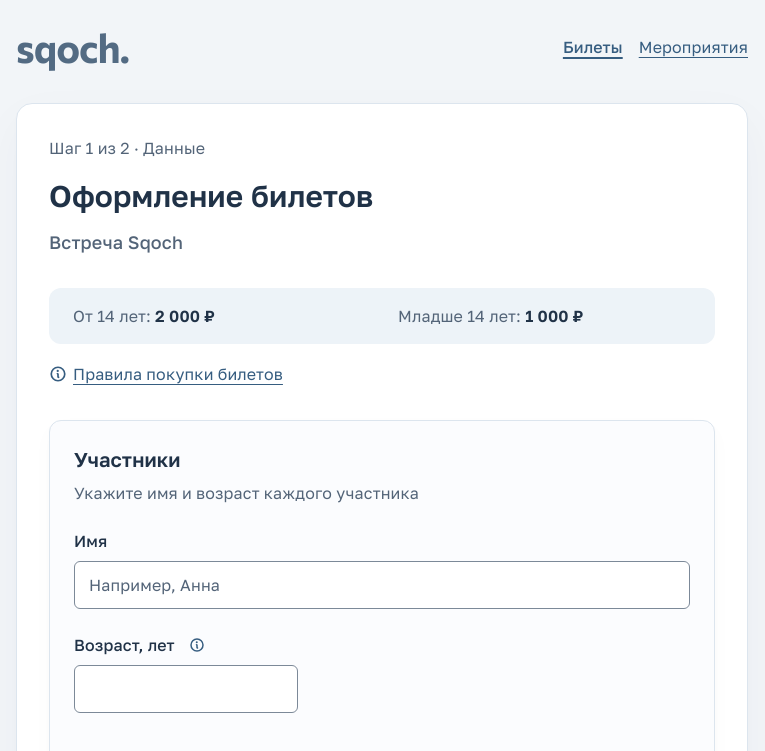
Test: Эвристическая доводка — test first › название возврата начинается с видимого действия и возвращает сохранённые поля с фокусом
The width and height of the screenshot is (765, 751).
Expected: the heading "Оформление билетов" is shown, [49, 178, 373, 214]
Type "Анна" into the field labelled "Имя" at (382, 585), box [74, 561, 690, 609]
Type "18" into the field labelled "Возраст, лет" at (186, 689), box [74, 665, 298, 713]
(page scrolled)
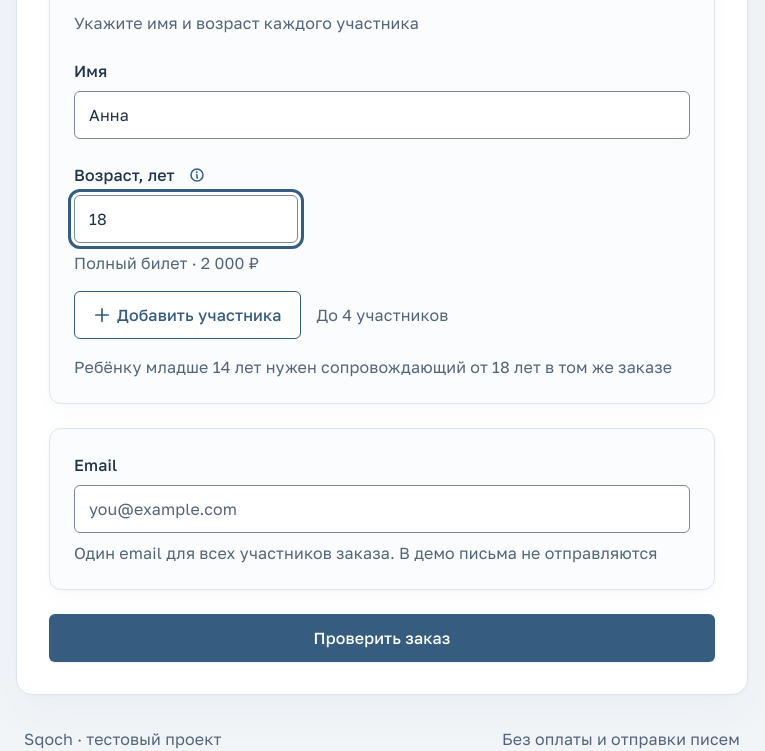
Type "anna@example.com" into the field labelled "Email" at (382, 509), box [74, 485, 690, 533]
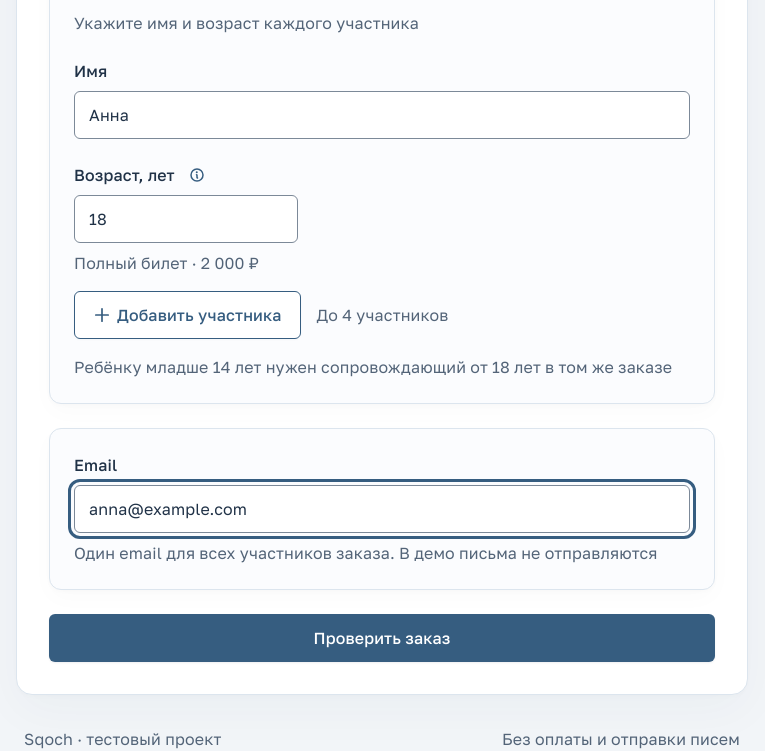
Click the button "Добавить участника" at (187, 315), box [74, 291, 301, 339]
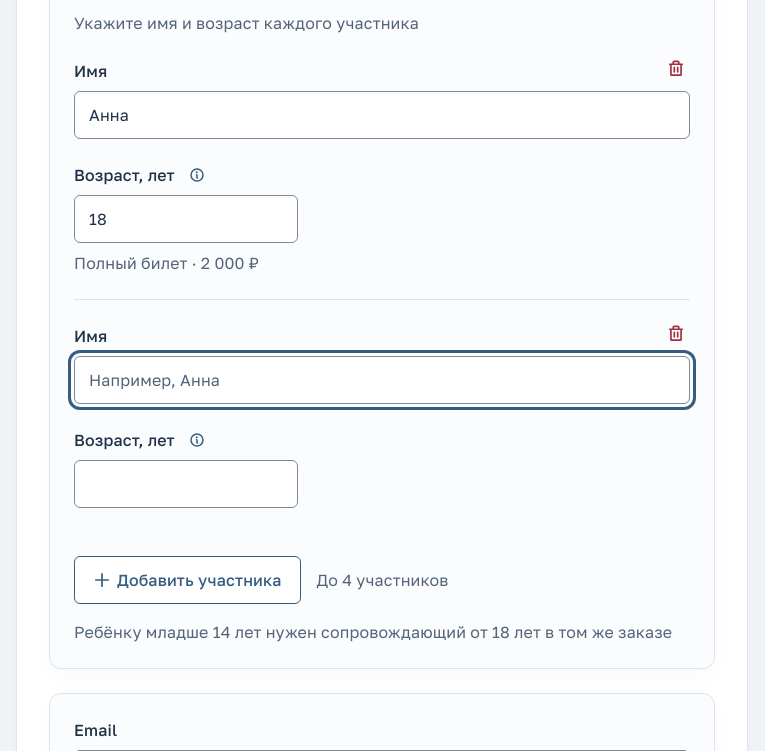
Type "Борис" into the 2nd field labelled "Имя" at (382, 380), box [74, 356, 690, 404]
Type "42" into the 2nd field labelled "Возраст, лет" at (186, 484), box [74, 460, 298, 508]
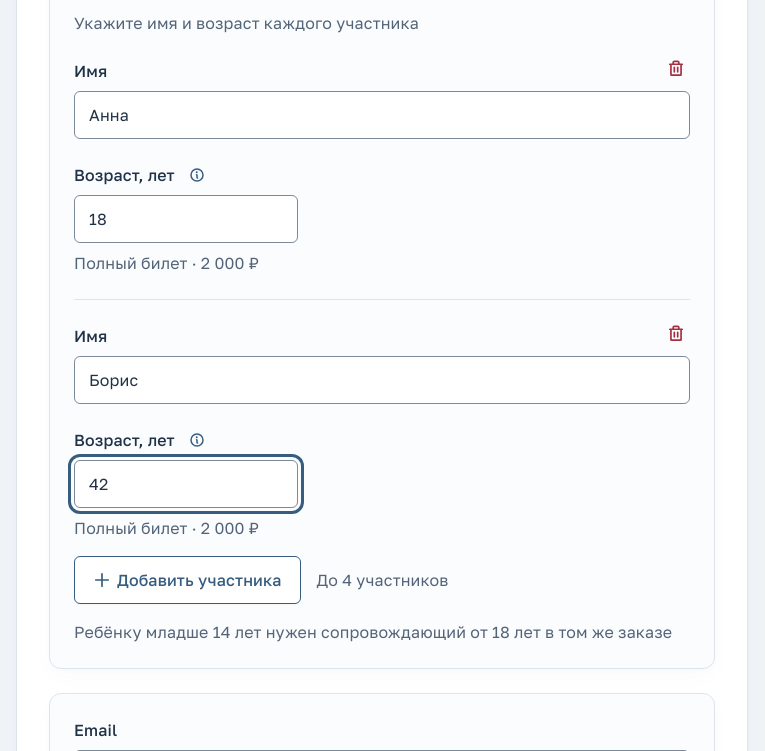
Click the button named "Удалить участника 2" at (676, 334), box [654, 312, 698, 356]
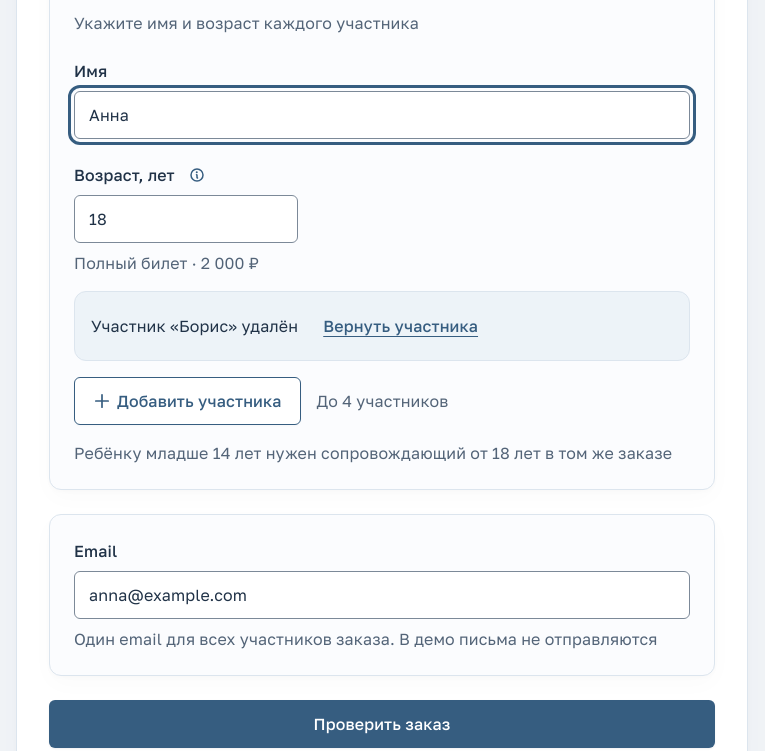
Now the button "Вернуть участника" is shown
Click the button "Вернуть участника" at (401, 326), box [310, 304, 491, 348]
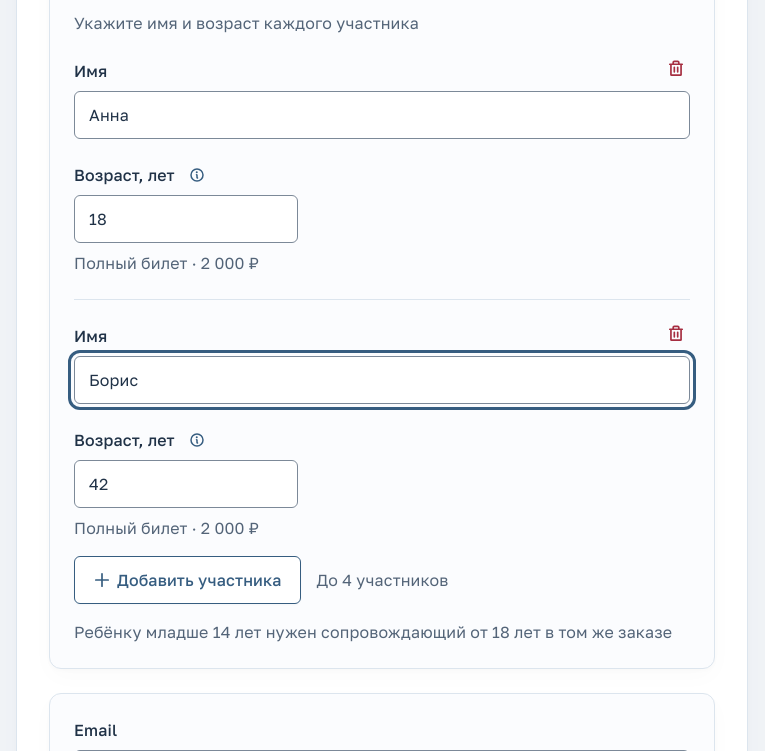
Now the 2nd field labelled "Имя" holds "Борис", box [74, 356, 690, 404]
Now the 2nd field labelled "Возраст, лет" holds "42", box [74, 460, 298, 508]
